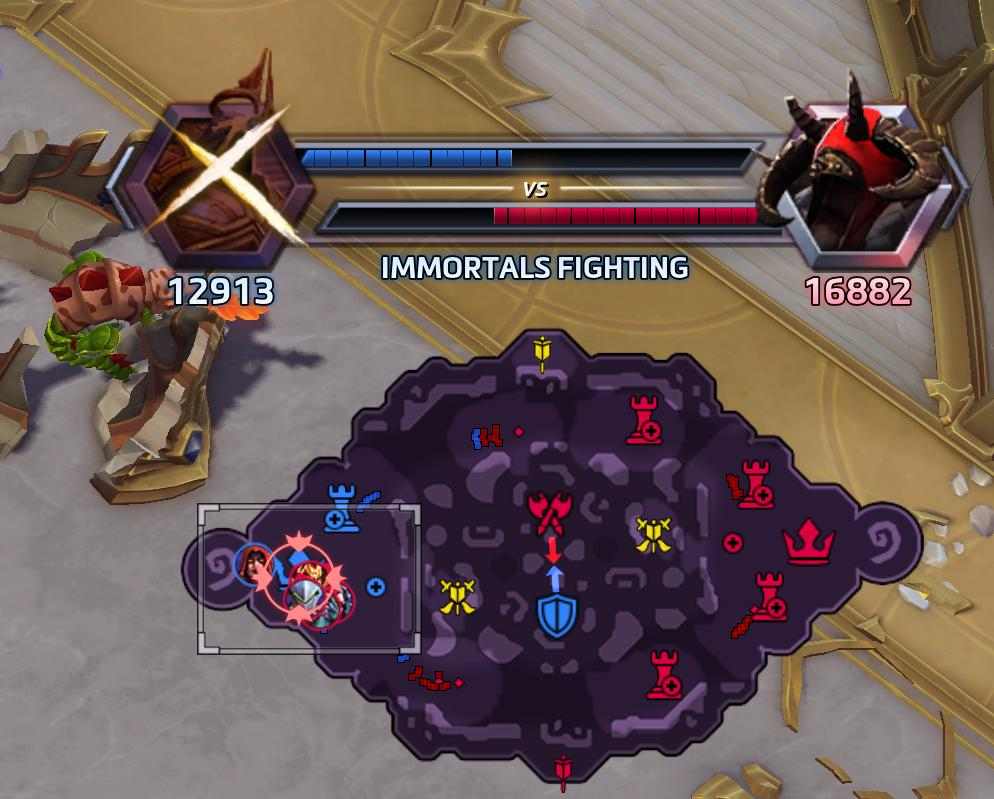blue player: (233, 543, 276, 588)
blue tower: (325, 472, 362, 536)
red nexus: (778, 513, 841, 570)
red player: (305, 581, 355, 632), (282, 557, 331, 608), (285, 575, 326, 615)
red tower: (640, 645, 686, 704), (746, 568, 790, 625), (735, 458, 778, 512), (628, 390, 665, 450)
